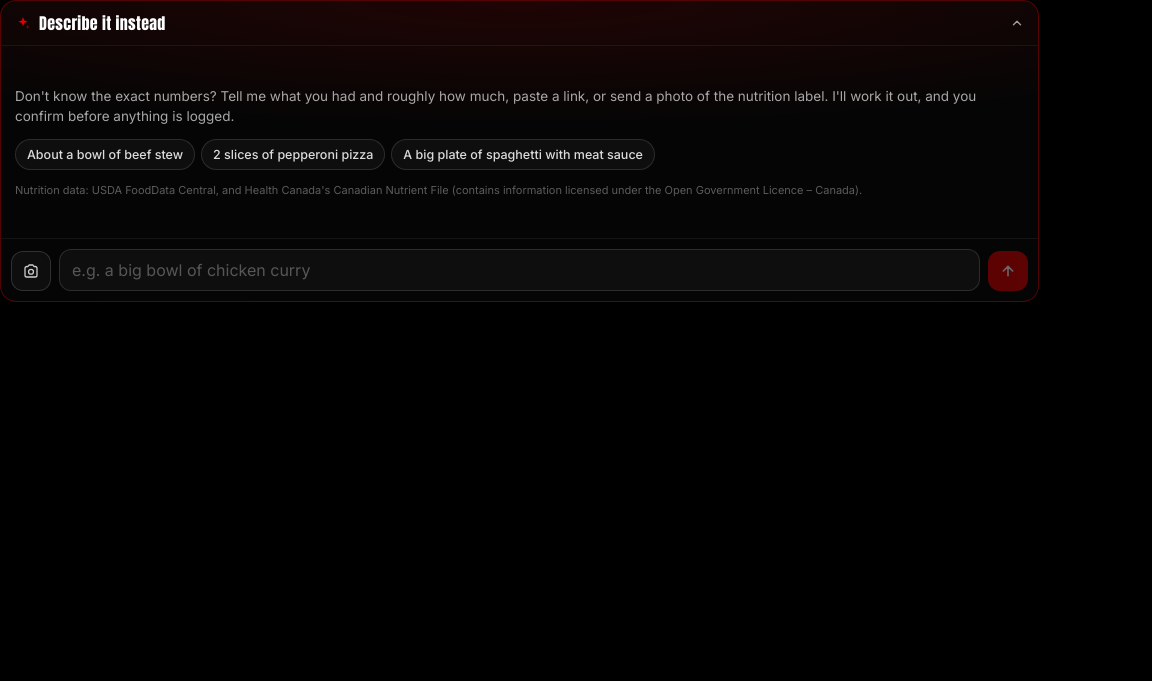
Scenario: FoodAssistant chat › streams a reply and a proposal, and logs it once confirmed
Step 1. Click the button "2 slices of pepperoni pizza" → (293, 154), box [201,138,385,170]
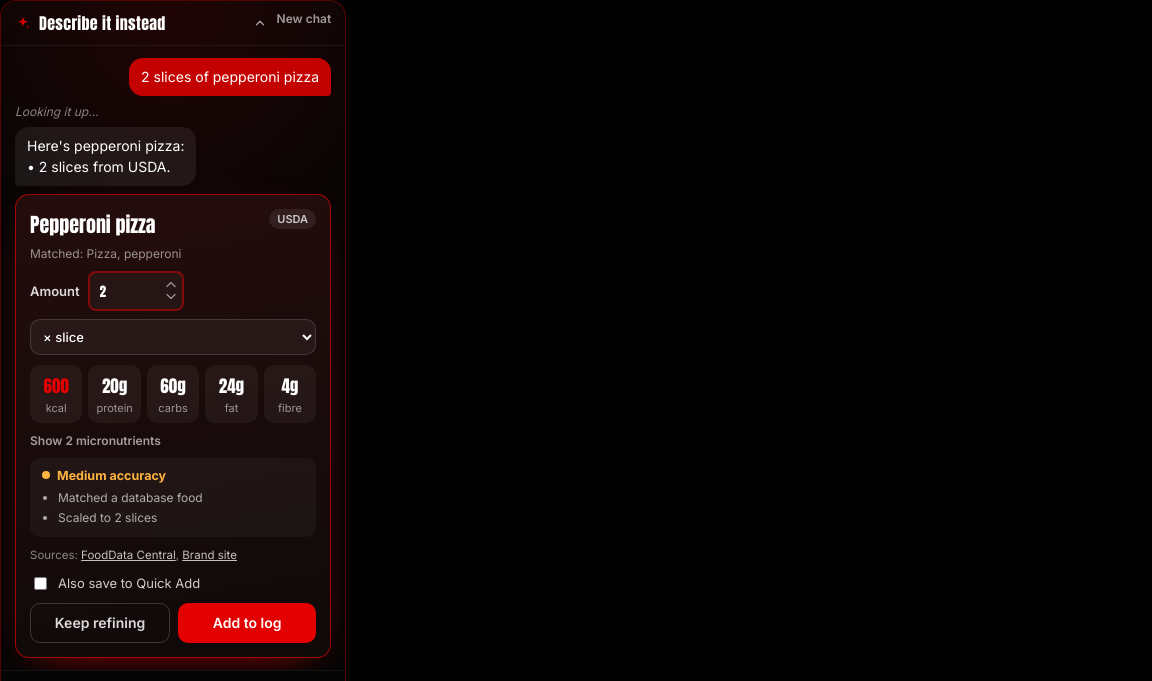
Now the text "Pepperoni pizza" is shown, box [30,209,155,240]
Now the text "Looking it up…" is shown, box [15,104,98,119]
Now the text "Here's pepperoni pizza: • 2 slices from USDA." is shown, box [15,127,196,186]
Step 2. Click the button "Show 2 micronutrients" → (95, 440), box [30,433,161,448]
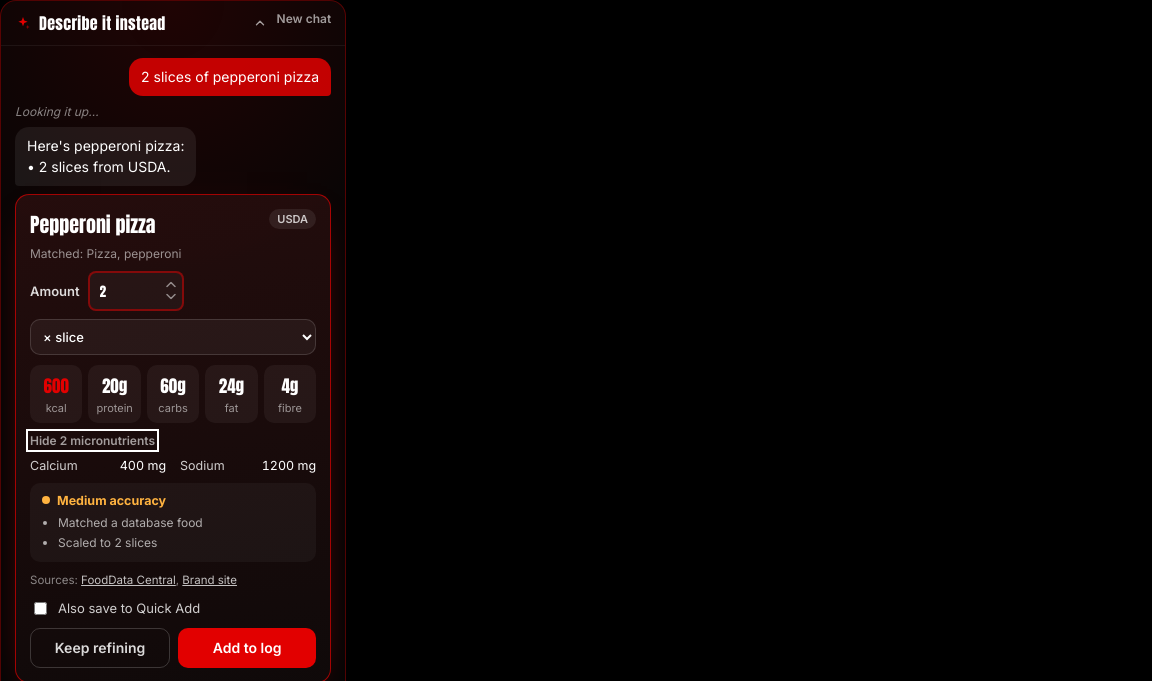
Now the text "1200 mg" is shown, box [262,458,316,473]
Step 3. Click the button "Hide 2 micronutrients" → (92, 440), box [30,433,155,448]
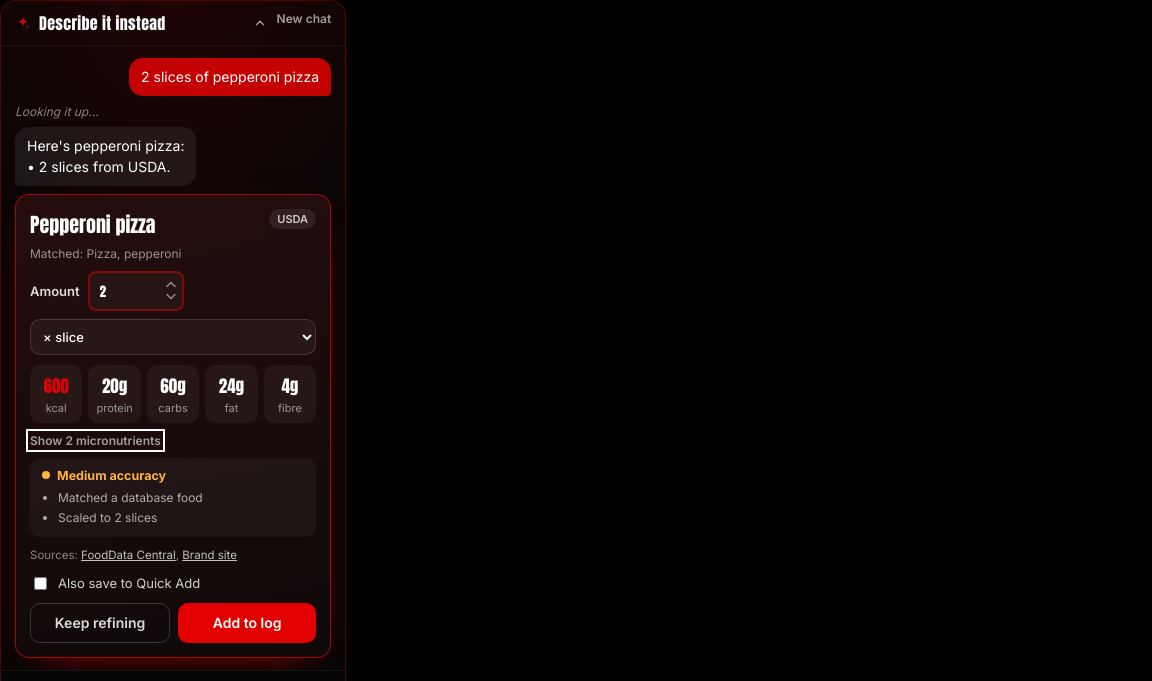
Now the text "1200 mg" is gone
Step 4. Click the checkbox labelled "Also save to Quick Add" → (40, 583), box [34,577,47,590]
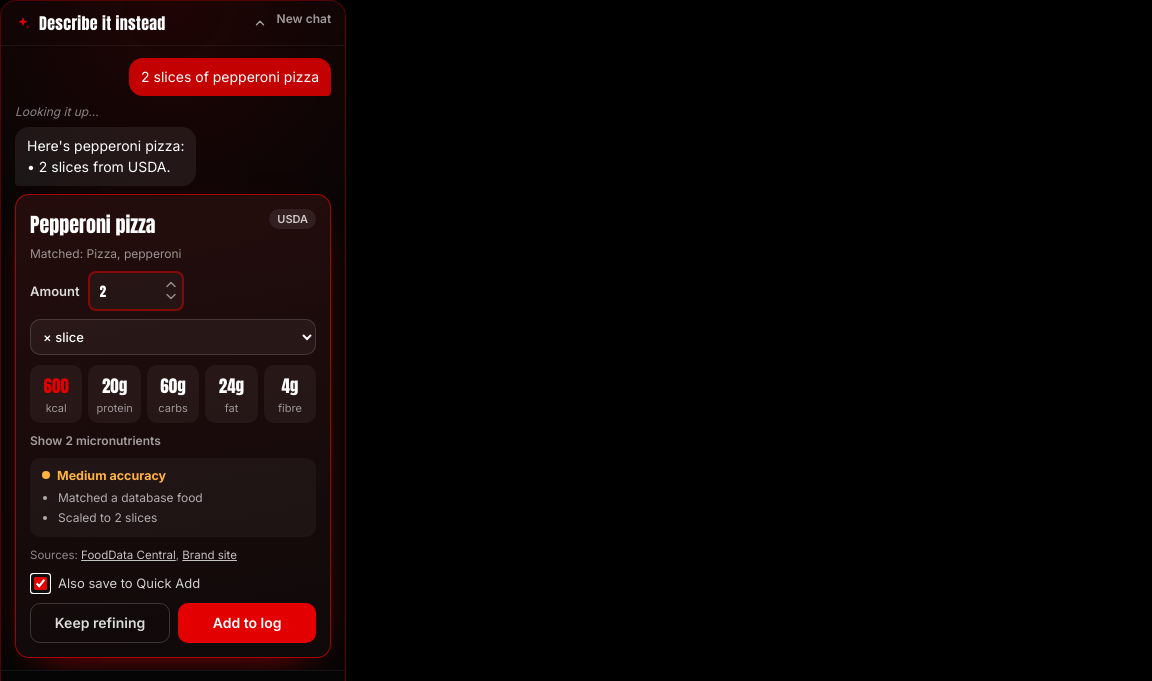
Step 5. Click the button "Add to log" → (247, 623), box [178,603,316,643]
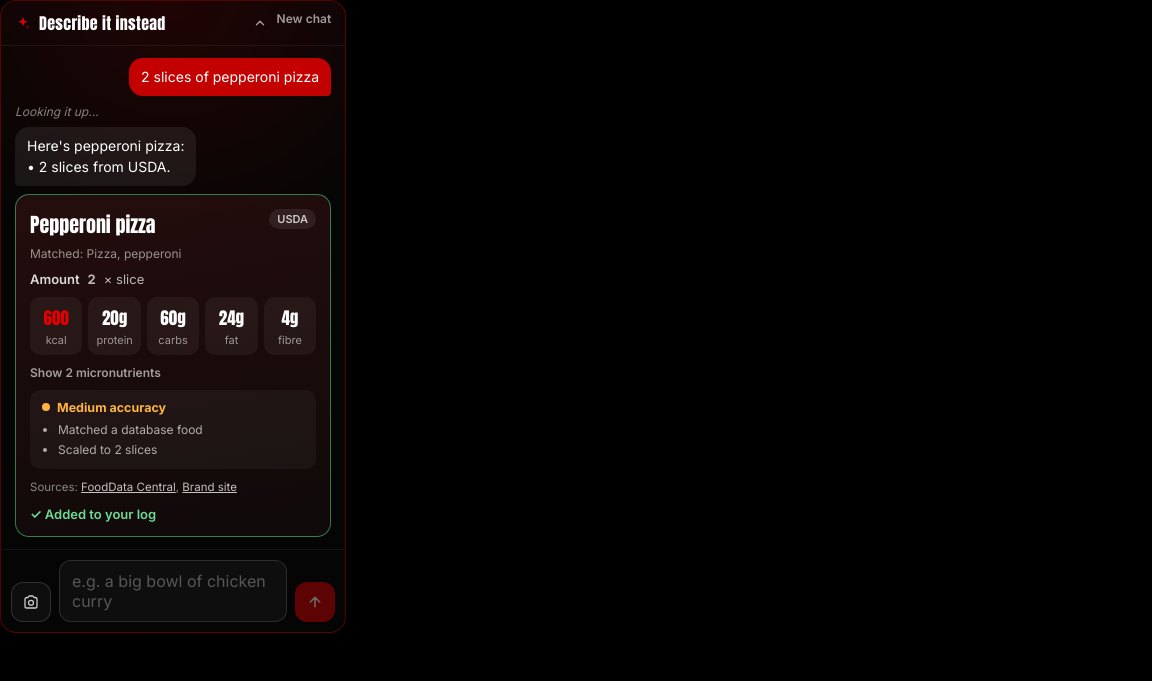
Now the text "✓ Added to your log" is shown, box [30,506,156,522]
Now the button "Add to log" is gone
